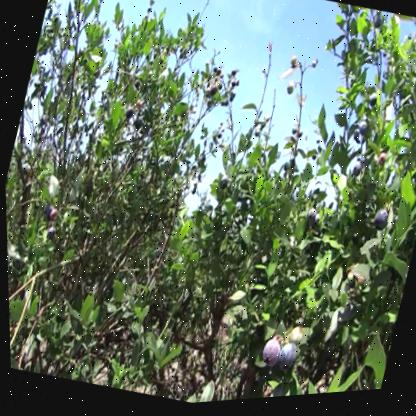mature: (254, 336, 284, 383), (271, 345, 299, 382), (368, 212, 391, 241)
young: (281, 326, 306, 355), (283, 80, 297, 103), (289, 55, 301, 74)
